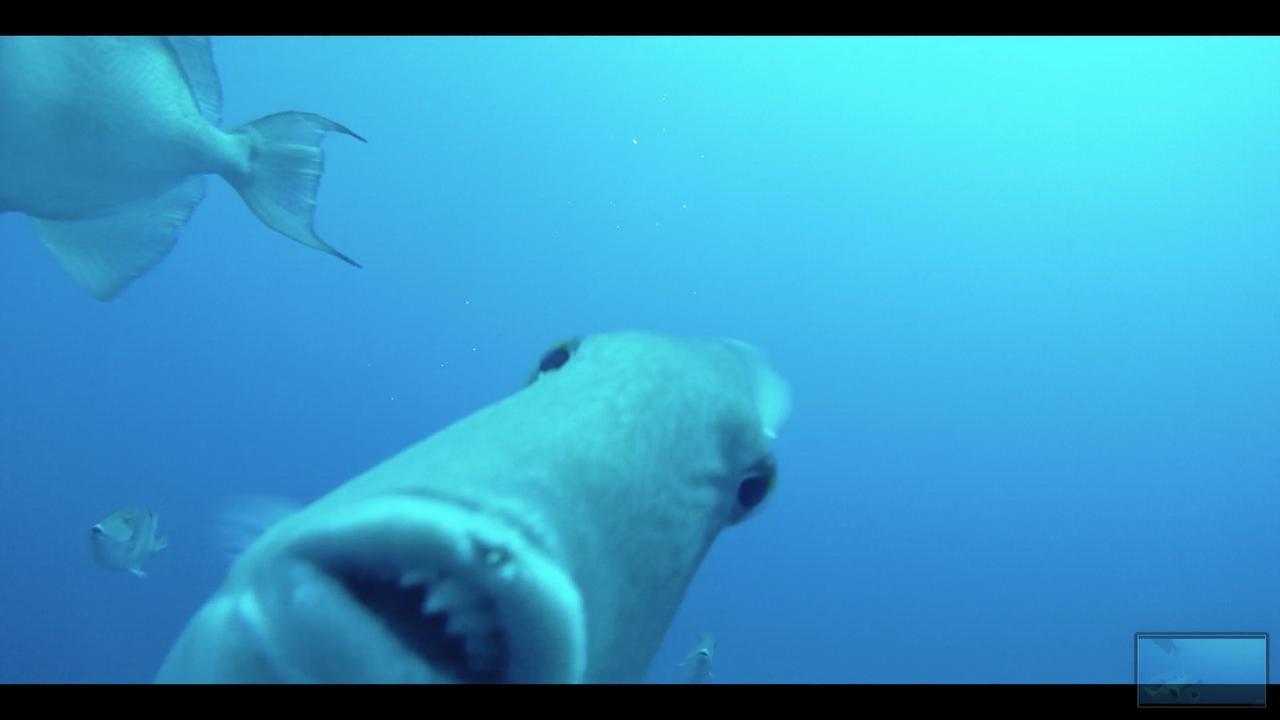balistes: (145, 321, 806, 685), (3, 35, 386, 303), (82, 496, 181, 582), (674, 627, 738, 683)
